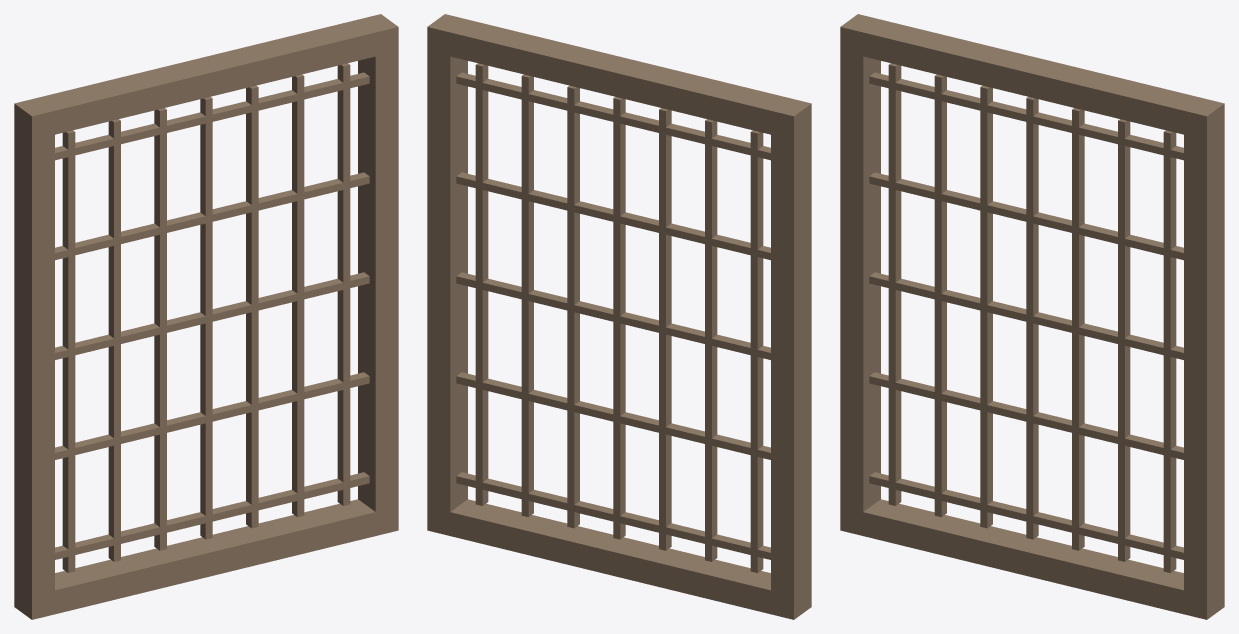
Rendered from AR-WINDOW.glb.
3 views of the same model, side by side, from view 1: azimuth 30°, elevation 25°; view 2: azimuth 150°, elevation 25°; view 3: azimuth 330°, elevation 25° (orthographic).
Visible parts, largest first — view 1: frame (×4), lattice (×12); view 2: frame (×4), lattice (×12); view 3: frame (×4), lattice (×12).
Part boxes in pixels (bbox=[...]): frame (×4): bbox=[14, 14, 398, 619]; lattice (×12): bbox=[55, 63, 369, 572]; frame (×4): bbox=[427, 14, 811, 619]; lattice (×12): bbox=[456, 63, 770, 572]; frame (×4): bbox=[840, 14, 1224, 619]; lattice (×12): bbox=[869, 63, 1183, 572].
Bounding box in the file's own units: 0.96 × 1.26 × 0.08.
